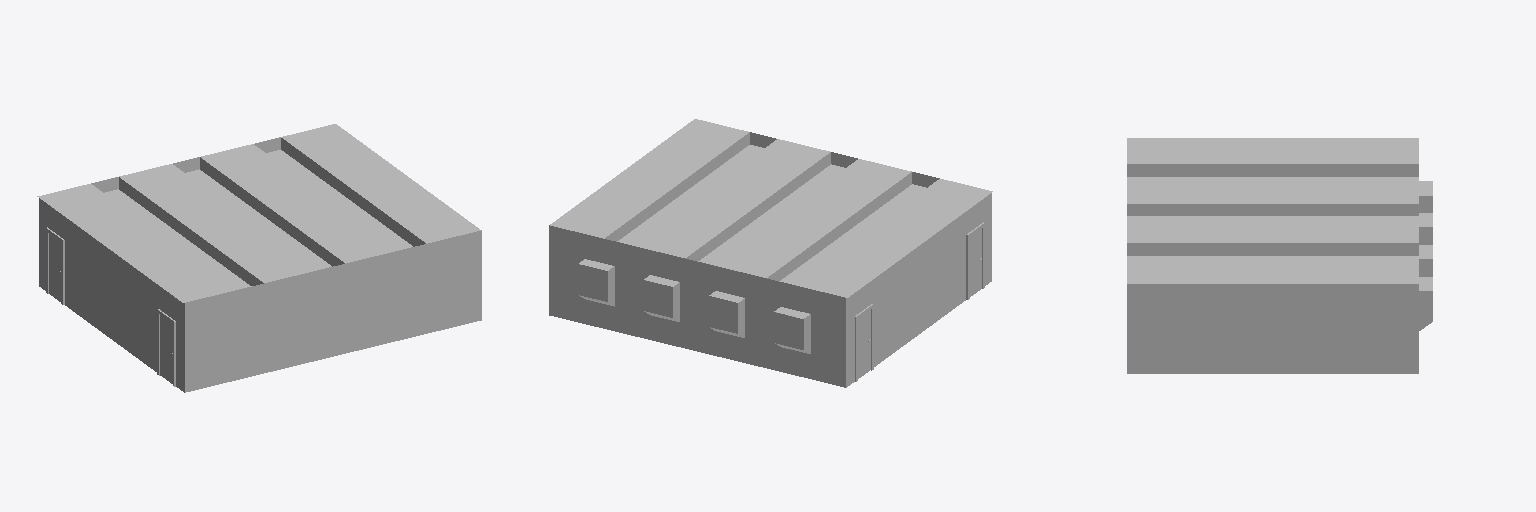
The model's file is cba ruimte fix.obj.
The picture shows the model from 3 angles: view 1: azimuth 30°, elevation 25°; view 2: azimuth 150°, elevation 25°; view 3: azimuth 270°, elevation 25°; orthographic projection.
Parts seen in each view (by area): view 1: ext_muur.002_Plane.1211, ext_muur.001_Plane.1210, ext_muur.004_Plane.003, ext_muur.006_Plane.005, ext_plafond.007_Plane.037, ext_plafond.003_Plane.032, ext_plafond.006_Plane.035, ext_plafond.005_Plane.034, ext_plafond.004_Plane.033, ext_plafond.002_Plane.031, ext_plafond.001_Plane.030, ext_plafond_Plane.029 (+10 smaller); view 2: ext_muur.013_Plane.011, ext_muur.007_Plane.006, ext_muur.004_Plane.003, ext_muur.006_Plane.005, ext_plafond.007_Plane.037, ext_plafond.006_Plane.035, ext_plafond.005_Plane.034, ext_plafond.003_Plane.032, ext_plafond_Plane.029, ext_plafond.004_Plane.033, ext_plafond.002_Plane.031, ext_plafond.001_Plane.030 (+19 smaller); view 3: ext_muur_Plane.1208, ext_plafond.012_Plane.042, ext_plafond.008_Plane.038, ext_plafond.010_Plane.040, ext_plafond.007_Plane.037, ext_plafond.006_Plane.035, ext_plafond.004_Plane.033, ext_plafond.003_Plane.032, ext_plafond_Plane.029, ext_plafond.005_Plane.034, ext_plafond.002_Plane.031, ext_plafond.001_Plane.030.
Boxes of the visible parts, x1=… form: ext_muur.002_Plane.1211: x1=185, y1=230, x2=481, y2=367; ext_muur.001_Plane.1210: x1=185, y1=296, x2=481, y2=392; ext_muur.004_Plane.003: x1=65, y1=241, x2=157, y2=371; ext_muur.006_Plane.005: x1=39, y1=198, x2=184, y2=327; ext_plafond.007_Plane.037: x1=319, y1=124, x2=480, y2=234; ext_plafond.003_Plane.032: x1=155, y1=164, x2=316, y2=274; ext_plafond.006_Plane.035: x1=281, y1=133, x2=443, y2=243; ext_plafond.005_Plane.034: x1=236, y1=144, x2=398, y2=254; ext_plafond.004_Plane.033: x1=201, y1=153, x2=361, y2=263; ext_plafond.002_Plane.031: x1=119, y1=172, x2=280, y2=282; ext_plafond.001_Plane.030: x1=74, y1=184, x2=235, y2=293; ext_plafond_Plane.029: x1=37, y1=192, x2=199, y2=302; ext_muur.013_Plane.011: x1=549, y1=225, x2=845, y2=321; ext_muur.007_Plane.006: x1=549, y1=291, x2=845, y2=387; ext_muur.004_Plane.003: x1=872, y1=235, x2=965, y2=366; ext_muur.006_Plane.005: x1=846, y1=193, x2=991, y2=321; ext_plafond.007_Plane.037: x1=550, y1=119, x2=711, y2=229; ext_plafond.006_Plane.035: x1=587, y1=128, x2=748, y2=238; ext_plafond.005_Plane.034: x1=632, y1=139, x2=794, y2=249; ext_plafond.003_Plane.032: x1=714, y1=159, x2=875, y2=269; ext_plafond_Plane.029: x1=830, y1=187, x2=992, y2=297; ext_plafond.004_Plane.033: x1=669, y1=148, x2=829, y2=257; ext_plafond.002_Plane.031: x1=749, y1=167, x2=911, y2=277; ext_plafond.001_Plane.030: x1=795, y1=179, x2=956, y2=288; ext_muur_Plane.1208: x1=1127, y1=284, x2=1418, y2=373; ext_plafond.012_Plane.042: x1=1127, y1=243, x2=1418, y2=255; ext_plafond.008_Plane.038: x1=1127, y1=164, x2=1418, y2=176; ext_plafond.010_Plane.040: x1=1127, y1=204, x2=1418, y2=215; ext_plafond.007_Plane.037: x1=1127, y1=275, x2=1418, y2=283; ext_plafond.006_Plane.035: x1=1127, y1=257, x2=1418, y2=265; ext_plafond.004_Plane.033: x1=1127, y1=217, x2=1418, y2=225; ext_plafond.003_Plane.032: x1=1127, y1=195, x2=1418, y2=203; ext_plafond_Plane.029: x1=1127, y1=138, x2=1418, y2=146; ext_plafond.005_Plane.034: x1=1127, y1=235, x2=1418, y2=242; ext_plafond.002_Plane.031: x1=1127, y1=178, x2=1418, y2=185; ext_plafond.001_Plane.030: x1=1127, y1=156, x2=1418, y2=163.
Bounding box in the file's own units: 10.05 × 2.9 × 8.9.